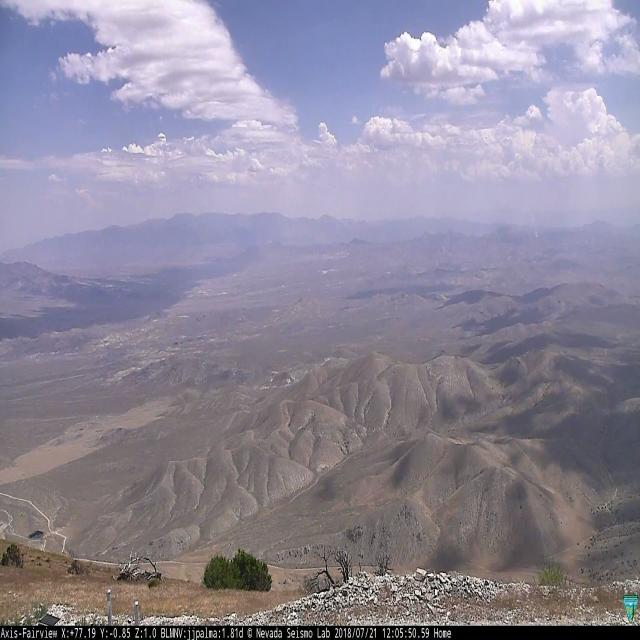smoke: (534, 228, 538, 239)
